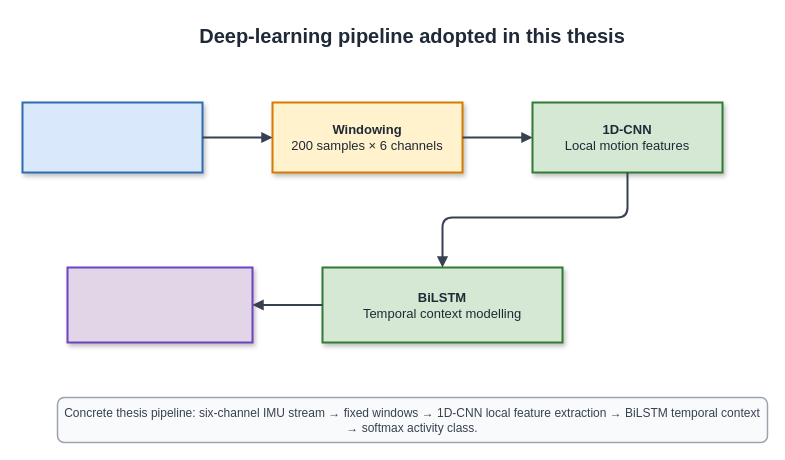
Image size: 785x460. Some labels were removed from this diagram. The centre of each missing label's shape, as x and y in pixels:
"Raw IMU Stream Ax, Ay, Az, Gx, Gy, Gz" goes at (113,138).
"Softmax Activity class" goes at (160,306).
